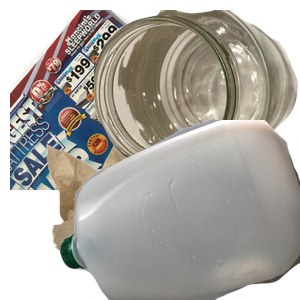glass: (94, 10, 300, 184)
paper: (10, 10, 240, 190)
plastic: (60, 120, 300, 300)
trash: (44, 136, 277, 300)
